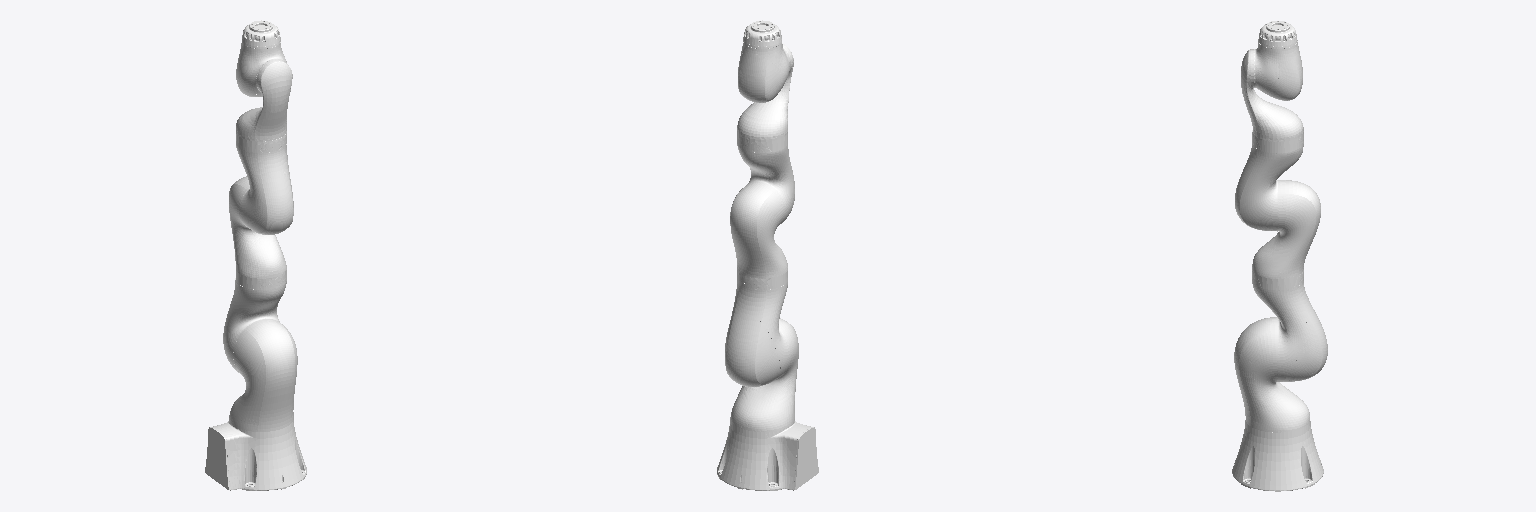
The robot description file, URDF, robot "iiwa14":
<?xml version="1.0" ?>
<robot name="iiwa14">
   <link name="world">
      <inertial>
         <origin xyz="0.0 0.0 0.0" rpy="0.0 0.0 0.0"/>
         <mass value="0.0"/>
         <inertia ixx="0.0" iyy="0.0" izz="0.0" ixy="0" ixz="0" iyz="0"/>
      </inertial>
   </link>
   <link name="base">
      <inertial>
         <origin xyz="-0.1 0.0 0.07" rpy="0.0 0.0 0.0"/>
         <mass value="5.0"/>
         <inertia ixx="0.05" iyy="0.06" izz="0.03" ixy="0" ixz="0" iyz="0"/>
      </inertial>
      <visual name="link_0">
         <origin xyz="-0.012611671036578257 -3.254423196209104e-07 0.07039070647461544" rpy="-3.140633497673135 -1.493081211837139 -0.000889365849879642"/>
         <geometry>
            <mesh filename="link_0.stl"/>
         </geometry>
         <material name="white"/>
      </visual>
   </link>
   <link name="world2base_fixed_jointbody">
      <inertial>
         <origin xyz="0.0 0.0 0.0" rpy="0.0 0.0 0.0"/>
         <mass value="0.001"/>
         <inertia ixx="1e-09" iyy="1e-09" izz="1e-09" ixy="0" ixz="0" iyz="0"/>
      </inertial>
   </link>
   <joint type="fixed" name="world2base_fixed">
      <parent link="world"/>
      <child link="world2base_fixed_jointbody"/>
      <origin xyz="0.0 0.0 0.0" rpy="0.0 0.0 0.0"/>
   </joint>
   <joint type="fixed" name="world2base_fixed_offset">
      <parent link="world2base_fixed_jointbody"/>
      <child link="base"/>
      <origin xyz="-0.0 -0.0 -0.0" rpy="0.0 0.0 0.0"/>
   </joint>
   <link name="link1">
      <inertial>
         <origin xyz="0.0 -0.03 0.12" rpy="0.0 0.0 0.0"/>
         <mass value="5.76"/>
         <inertia ixx="0.0333" iyy="0.033" izz="0.0123" ixy="0" ixz="0" iyz="0"/>
      </inertial>
      <visual name="link_1">
         <origin xyz="-1.9467224250099186e-06 -0.033510718651834435 0.12307399455468765" rpy="-5.6984673832971566e-05 -0.21504380999635497 1.5709676719057255"/>
         <geometry>
            <mesh filename="link_1.stl"/>
         </geometry>
         <material name="white"/>
      </visual>
   </link>
   <link name="joint1_jointbody">
      <inertial>
         <origin xyz="0.0 0.0 0.0" rpy="0.0 0.0 0.0"/>
         <mass value="0.001"/>
         <inertia ixx="1e-09" iyy="1e-09" izz="1e-09" ixy="0" ixz="0" iyz="0"/>
      </inertial>
   </link>
   <joint type="revolute" name="joint1">
      <parent link="base"/>
      <child link="joint1_jointbody"/>
      <origin xyz="0.0 0.0 0.1575" rpy="0.0 0.0 0.0"/>
      <axis xyz="0.0 0.0 1.0"/>
      <limit lower="-2.96706" upper="2.96706" effort="100" velocity="100"/>
   </joint>
   <joint type="fixed" name="joint1_offset">
      <parent link="joint1_jointbody"/>
      <child link="link1"/>
      <origin xyz="-0.0 -0.0 -0.0" rpy="0.0 0.0 0.0"/>
   </joint>
   <link name="link2">
      <inertial>
         <origin xyz="0.0003 0.059 0.042" rpy="1.5707963267948963 0.0 3.141592653589793"/>
         <mass value="6.35"/>
         <inertia ixx="0.0305" iyy="0.0304" izz="0.011" ixy="0" ixz="0" iyz="0"/>
      </inertial>
      <visual name="link_2_orange">
         <origin xyz="5.833200473414104e-06 -0.0013649110929937283 0.08664810668768198" rpy="-3.1413084284932147 -1.3661334130029794 -1.5709650873100645"/>
         <geometry>
            <mesh filename="link_2_orange.stl"/>
         </geometry>
         <material name="white"/>
      </visual>
      <visual name="link_2_grey">
         <origin xyz="0.00043793490152758556 0.10289616757300567 0.015210238889161797" rpy="0.0016578161601764618 -1.532229023514677 1.56911578405116"/>
         <geometry>
            <mesh filename="link_2_grey.stl"/>
         </geometry>
         <material name="white"/>
      </visual>
   </link>
   <link name="joint2_jointbody">
      <inertial>
         <origin xyz="0.0 0.0 0.0" rpy="0.0 0.0 0.0"/>
         <mass value="0.001"/>
         <inertia ixx="1e-09" iyy="1e-09" izz="1e-09" ixy="0" ixz="0" iyz="0"/>
      </inertial>
   </link>
   <joint type="revolute" name="joint2">
      <parent link="link1"/>
      <child link="joint2_jointbody"/>
      <origin xyz="0.0 0.0 0.2025" rpy="1.5707963267948963 0.0 3.141592653589793"/>
      <axis xyz="0.0 0.0 1.0"/>
      <limit lower="-2.0944" upper="2.0944" effort="100" velocity="100"/>
   </joint>
   <joint type="fixed" name="joint2_offset">
      <parent link="joint2_jointbody"/>
      <child link="link2"/>
      <origin xyz="-0.0 -0.0 -0.0" rpy="0.0 0.0 0.0"/>
   </joint>
   <link name="link3">
      <inertial>
         <origin xyz="0.0 0.03 0.13" rpy="0.0 0.0 0.0"/>
         <mass value="3.5"/>
         <inertia ixx="0.025" iyy="0.0238" izz="0.0076" ixy="0" ixz="0" iyz="0"/>
      </inertial>
      <visual name="link_3">
         <origin xyz="1.4078830679151452e-06 0.032971200566581434 0.13639559691063216" rpy="0.0029218514021467357 0.23613841486886145 1.5832919005073889"/>
         <geometry>
            <mesh filename="link_3.stl"/>
         </geometry>
         <material name="white"/>
      </visual>
      <visual name="band">
         <origin xyz="-3.505268665934039e-05 -1.8385725239560668e-05 0.016549965837234677" rpy="-2.9053919124315772 -1.5707490284013652 -0.17498014152260266"/>
         <geometry>
            <mesh filename="band.stl"/>
         </geometry>
         <material name="white"/>
      </visual>
      <visual name="kuka">
         <origin xyz="1.051589988336985e-06 -2.864725109729697e-06 0.01613546622792739" rpy="-1.5399794106992206 -1.570737863373132 -3.1130803663122664"/>
         <geometry>
            <mesh filename="kuka.stl"/>
         </geometry>
         <material name="white"/>
      </visual>
   </link>
   <link name="joint3_jointbody">
      <inertial>
         <origin xyz="0.0 0.0 0.0" rpy="0.0 0.0 0.0"/>
         <mass value="0.001"/>
         <inertia ixx="1e-09" iyy="1e-09" izz="1e-09" ixy="0" ixz="0" iyz="0"/>
      </inertial>
   </link>
   <joint type="revolute" name="joint3">
      <parent link="link2"/>
      <child link="joint3_jointbody"/>
      <origin xyz="0.0 0.2045 0.0" rpy="1.5707963267948963 0.0 3.141592653589793"/>
      <axis xyz="0.0 0.0 1.0"/>
      <limit lower="-2.96706" upper="2.96706" effort="100" velocity="100"/>
   </joint>
   <joint type="fixed" name="joint3_offset">
      <parent link="joint3_jointbody"/>
      <child link="link3"/>
      <origin xyz="-0.0 -0.0 -0.0" rpy="0.0 0.0 0.0"/>
   </joint>
   <link name="link4">
      <inertial>
         <origin xyz="0.0 0.067 0.034" rpy="1.5707963267948963 0.0 0.0"/>
         <mass value="3.5"/>
         <inertia ixx="0.017" iyy="0.0164" izz="0.006" ixy="0" ixz="0" iyz="0"/>
      </inertial>
      <visual name="link_4_orange">
         <origin xyz="4.824970729960769e-06 0.007968855344292989 0.07976153486794982" rpy="3.1414123372216496 -1.3520160905641743 -1.570831286274853"/>
         <geometry>
            <mesh filename="link_4_orange.stl"/>
         </geometry>
         <material name="white"/>
      </visual>
      <visual name="link_4_grey">
         <origin xyz="-7.190857064534329e-07 0.09924633883339996 0.012969840291998222" rpy="0.002358157342782219 -1.5072370291577457 1.5684105849026866"/>
         <geometry>
            <mesh filename="link_4_grey.stl"/>
         </geometry>
         <material name="white"/>
      </visual>
   </link>
   <link name="joint4_jointbody">
      <inertial>
         <origin xyz="0.0 0.0 0.0" rpy="0.0 0.0 0.0"/>
         <mass value="0.001"/>
         <inertia ixx="1e-09" iyy="1e-09" izz="1e-09" ixy="0" ixz="0" iyz="0"/>
      </inertial>
   </link>
   <joint type="revolute" name="joint4">
      <parent link="link3"/>
      <child link="joint4_jointbody"/>
      <origin xyz="0.0 0.0 0.2155" rpy="1.5707963267948963 0.0 0.0"/>
      <axis xyz="0.0 0.0 1.0"/>
      <limit lower="-2.0944" upper="2.0944" effort="100" velocity="100"/>
   </joint>
   <joint type="fixed" name="joint4_offset">
      <parent link="joint4_jointbody"/>
      <child link="link4"/>
      <origin xyz="-0.0 -0.0 -0.0" rpy="0.0 0.0 0.0"/>
   </joint>
   <link name="link5">
      <inertial>
         <origin xyz="0.0001 0.021 0.076" rpy="0.0 0.0 0.0"/>
         <mass value="3.5"/>
         <inertia ixx="0.01" iyy="0.0087" izz="0.00449" ixy="0" ixz="0" iyz="0"/>
      </inertial>
      <visual name="link_5">
         <origin xyz="0.003811949185254851 0.02870779370416408 0.09361015043119168" rpy="-0.058285510735668344 0.4061814913149884 1.507663450524455"/>
         <geometry>
            <mesh filename="link_5.stl"/>
         </geometry>
         <material name="white"/>
      </visual>
      <visual name="band">
         <origin xyz="-3.505268665934039e-05 -1.8385725239560668e-05 0.016549965837234677" rpy="-2.9053919124315772 -1.5707490284013652 -0.17498014152260266"/>
         <geometry>
            <mesh filename="band.stl"/>
         </geometry>
         <material name="white"/>
      </visual>
      <visual name="kuka">
         <origin xyz="1.051589988336985e-06 -2.864725109729697e-06 0.01613546622792739" rpy="-1.5399794106992206 -1.570737863373132 -3.1130803663122664"/>
         <geometry>
            <mesh filename="kuka.stl"/>
         </geometry>
         <material name="white"/>
      </visual>
   </link>
   <link name="joint5_jointbody">
      <inertial>
         <origin xyz="0.0 0.0 0.0" rpy="0.0 0.0 0.0"/>
         <mass value="0.001"/>
         <inertia ixx="1e-09" iyy="1e-09" izz="1e-09" ixy="0" ixz="0" iyz="0"/>
      </inertial>
   </link>
   <joint type="revolute" name="joint5">
      <parent link="link4"/>
      <child link="joint5_jointbody"/>
      <origin xyz="0.0 0.1845 0.0" rpy="1.5707963267948963 0.0 3.141592653589793"/>
      <axis xyz="0.0 0.0 1.0"/>
      <limit lower="-2.96706" upper="2.96706" effort="100" velocity="100"/>
   </joint>
   <joint type="fixed" name="joint5_offset">
      <parent link="joint5_jointbody"/>
      <child link="link5"/>
      <origin xyz="-0.0 -0.0 -0.0" rpy="0.0 0.0 0.0"/>
   </joint>
   <link name="link6">
      <inertial>
         <origin xyz="0.0 0.0006 0.0004" rpy="1.5707963267948963 0.0 0.0"/>
         <mass value="1.8"/>
         <inertia ixx="0.0049" iyy="0.0047" izz="0.0036" ixy="0" ixz="0" iyz="0"/>
      </inertial>
      <visual name="link_6_orange">
         <origin xyz="-1.1731925256618952e-06 -0.03281057531032309 0.025841151550656624" rpy="3.1404471397737055 -1.0516466283090844 -1.5709595510977608"/>
         <geometry>
            <mesh filename="link_6_orange.stl"/>
         </geometry>
         <material name="white"/>
      </visual>
      <visual name="link_6_grey">
         <origin xyz="-4.166903451083117e-06 0.02953027797634403 -0.0213647544100171" rpy="3.1413655932546467 -0.9534988300542401 -1.5706843481551047"/>
         <geometry>
            <mesh filename="link_6_grey.stl"/>
         </geometry>
         <material name="white"/>
      </visual>
   </link>
   <link name="joint6_jointbody">
      <inertial>
         <origin xyz="0.0 0.0 0.0" rpy="0.0 0.0 0.0"/>
         <mass value="0.001"/>
         <inertia ixx="1e-09" iyy="1e-09" izz="1e-09" ixy="0" ixz="0" iyz="0"/>
      </inertial>
   </link>
   <joint type="revolute" name="joint6">
      <parent link="link5"/>
      <child link="joint6_jointbody"/>
      <origin xyz="0.0 0.0 0.2155" rpy="1.5707963267948963 0.0 0.0"/>
      <axis xyz="0.0 0.0 1.0"/>
      <limit lower="-2.0944" upper="2.0944" effort="100" velocity="100"/>
   </joint>
   <joint type="fixed" name="joint6_offset">
      <parent link="joint6_jointbody"/>
      <child link="link6"/>
      <origin xyz="-0.0 -0.0 -0.0" rpy="0.0 0.0 0.0"/>
   </joint>
   <link name="link7">
      <inertial>
         <origin xyz="0.0 0.0 0.02" rpy="0.0 0.0 0.0"/>
         <mass value="1.2"/>
         <inertia ixx="0.001" iyy="0.001" izz="0.001" ixy="0" ixz="0" iyz="0"/>
      </inertial>
      <visual name="link_7">
         <origin xyz="-9.66104924222e-06 -9.153581700623227e-07 0.01686968096074815" rpy="1.5715276540068037 -1.5704055290443377 -3.7281289166912757e-13"/>
         <geometry>
            <mesh filename="link_7.stl"/>
         </geometry>
         <material name="white"/>
      </visual>
   </link>
   <link name="joint7_jointbody">
      <inertial>
         <origin xyz="0.0 0.0 0.0" rpy="0.0 0.0 0.0"/>
         <mass value="0.001"/>
         <inertia ixx="1e-09" iyy="1e-09" izz="1e-09" ixy="0" ixz="0" iyz="0"/>
      </inertial>
   </link>
   <joint type="revolute" name="joint7">
      <parent link="link6"/>
      <child link="joint7_jointbody"/>
      <origin xyz="0.0 0.081 0.0" rpy="1.5707963267948963 0.0 3.141592653589793"/>
      <axis xyz="0.0 0.0 1.0"/>
      <limit lower="-3.05433" upper="3.05433" effort="100" velocity="100"/>
   </joint>
   <joint type="fixed" name="joint7_offset">
      <parent link="joint7_jointbody"/>
      <child link="link7"/>
      <origin xyz="-0.0 -0.0 -0.0" rpy="0.0 0.0 0.0"/>
   </joint>
   <material name="white">
      <color rgba="1 1 1 1"/>
   </material>
</robot>

--- Facts derived from the render (not from the file) ---
The picture shows the robot from 3 angles, left to right: view 1: azimuth 30°, elevation 25°; view 2: azimuth 150°, elevation 25°; view 3: azimuth 270°, elevation 25°; orthographic projection.
Robot: iiwa14 — 17 links, 16 joints (7 revolute, 9 fixed); root link world; default pose: every joint at zero.
Links seen in each view (by area): view 1: link1, base, link4, link5, link3, link2, link6, link7; view 2: base, link2, link3, link1, link5, link6, link4, link7; view 3: link1, base, link3, link2, link4, link5, link6, link7.
Boxes of the visible links, box(x1,y1,x2,y2) form: link1: box(229, 319, 297, 431); base: box(205, 420, 306, 490); link4: box(236, 144, 293, 234); link5: box(236, 59, 292, 152); link3: box(229, 176, 286, 289); link2: box(223, 278, 286, 372); link6: box(236, 42, 286, 96); link7: box(242, 20, 280, 48); base: box(717, 419, 818, 490); link2: box(725, 281, 790, 386); link3: box(730, 182, 787, 289); link1: box(730, 318, 798, 431); link5: box(737, 43, 793, 152); link6: box(738, 42, 790, 102); link4: box(737, 144, 794, 223); link7: box(743, 20, 781, 48); link1: box(1234, 317, 1309, 432); base: box(1232, 420, 1323, 491); link3: box(1252, 180, 1320, 289); link2: box(1252, 281, 1327, 381); link4: box(1235, 144, 1303, 231); link5: box(1241, 49, 1303, 152); link6: box(1255, 41, 1302, 100); link7: box(1258, 21, 1297, 48).
Bounding box of the posed robot: 0.2572 × 0.2535 × 1.31 m (x, y, z).
Meshes: 13 distinct files referenced, 15 mesh visuals loaded (13 binary STL).